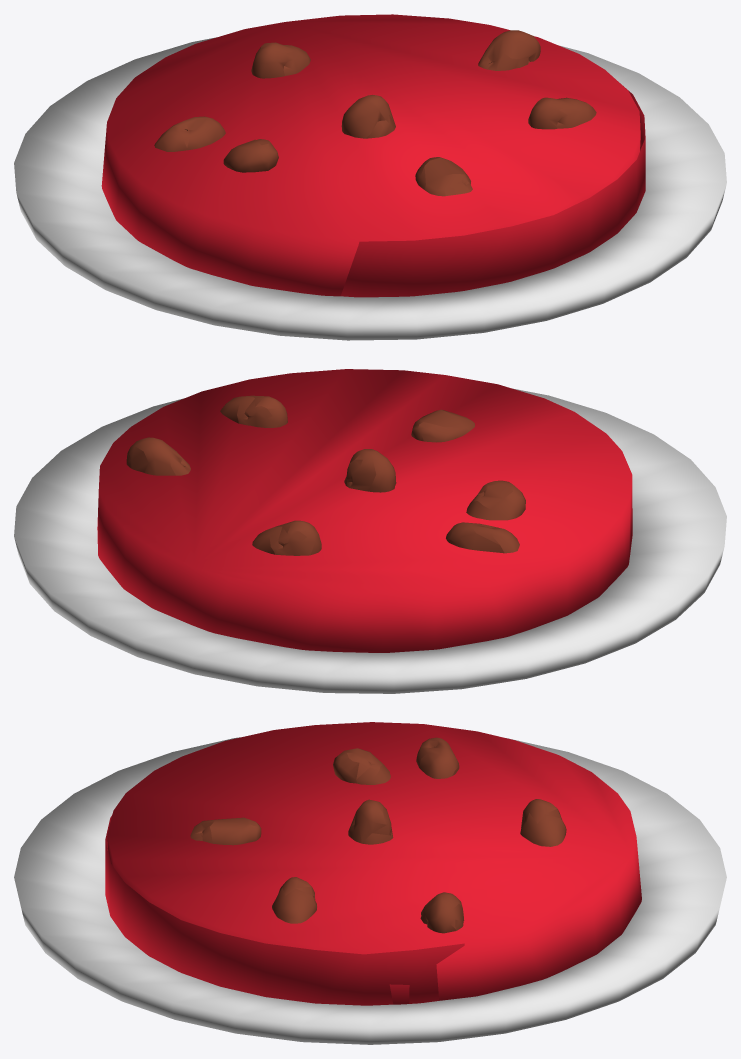
The model's file is potatoTortilla.fbx.
3 views of the same model, one above another, from view 1: azimuth 30°, elevation 25°; view 2: azimuth 150°, elevation 25°; view 3: azimuth 270°, elevation 25° (orthographic).
Visible parts, largest first — view 1: potatoTortilla; view 2: potatoTortilla; view 3: potatoTortilla.
Boxes of the visible parts, box(x1,y1,x2,y2) form: potatoTortilla: box(14, 14, 726, 340); potatoTortilla: box(14, 369, 726, 693); potatoTortilla: box(14, 722, 726, 1044).
Bounding box in the file's own units: 178 × 35.41 × 178.
